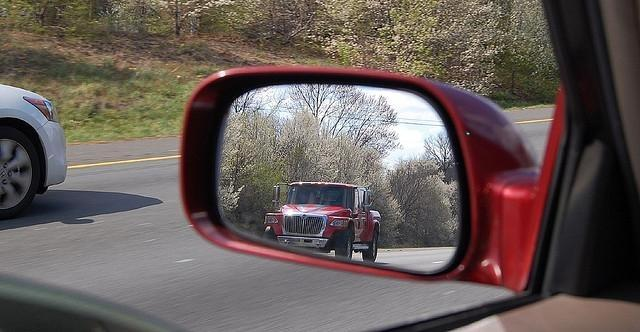car: (1, 88, 66, 219)
truck: (179, 2, 639, 328), (263, 179, 381, 262)
